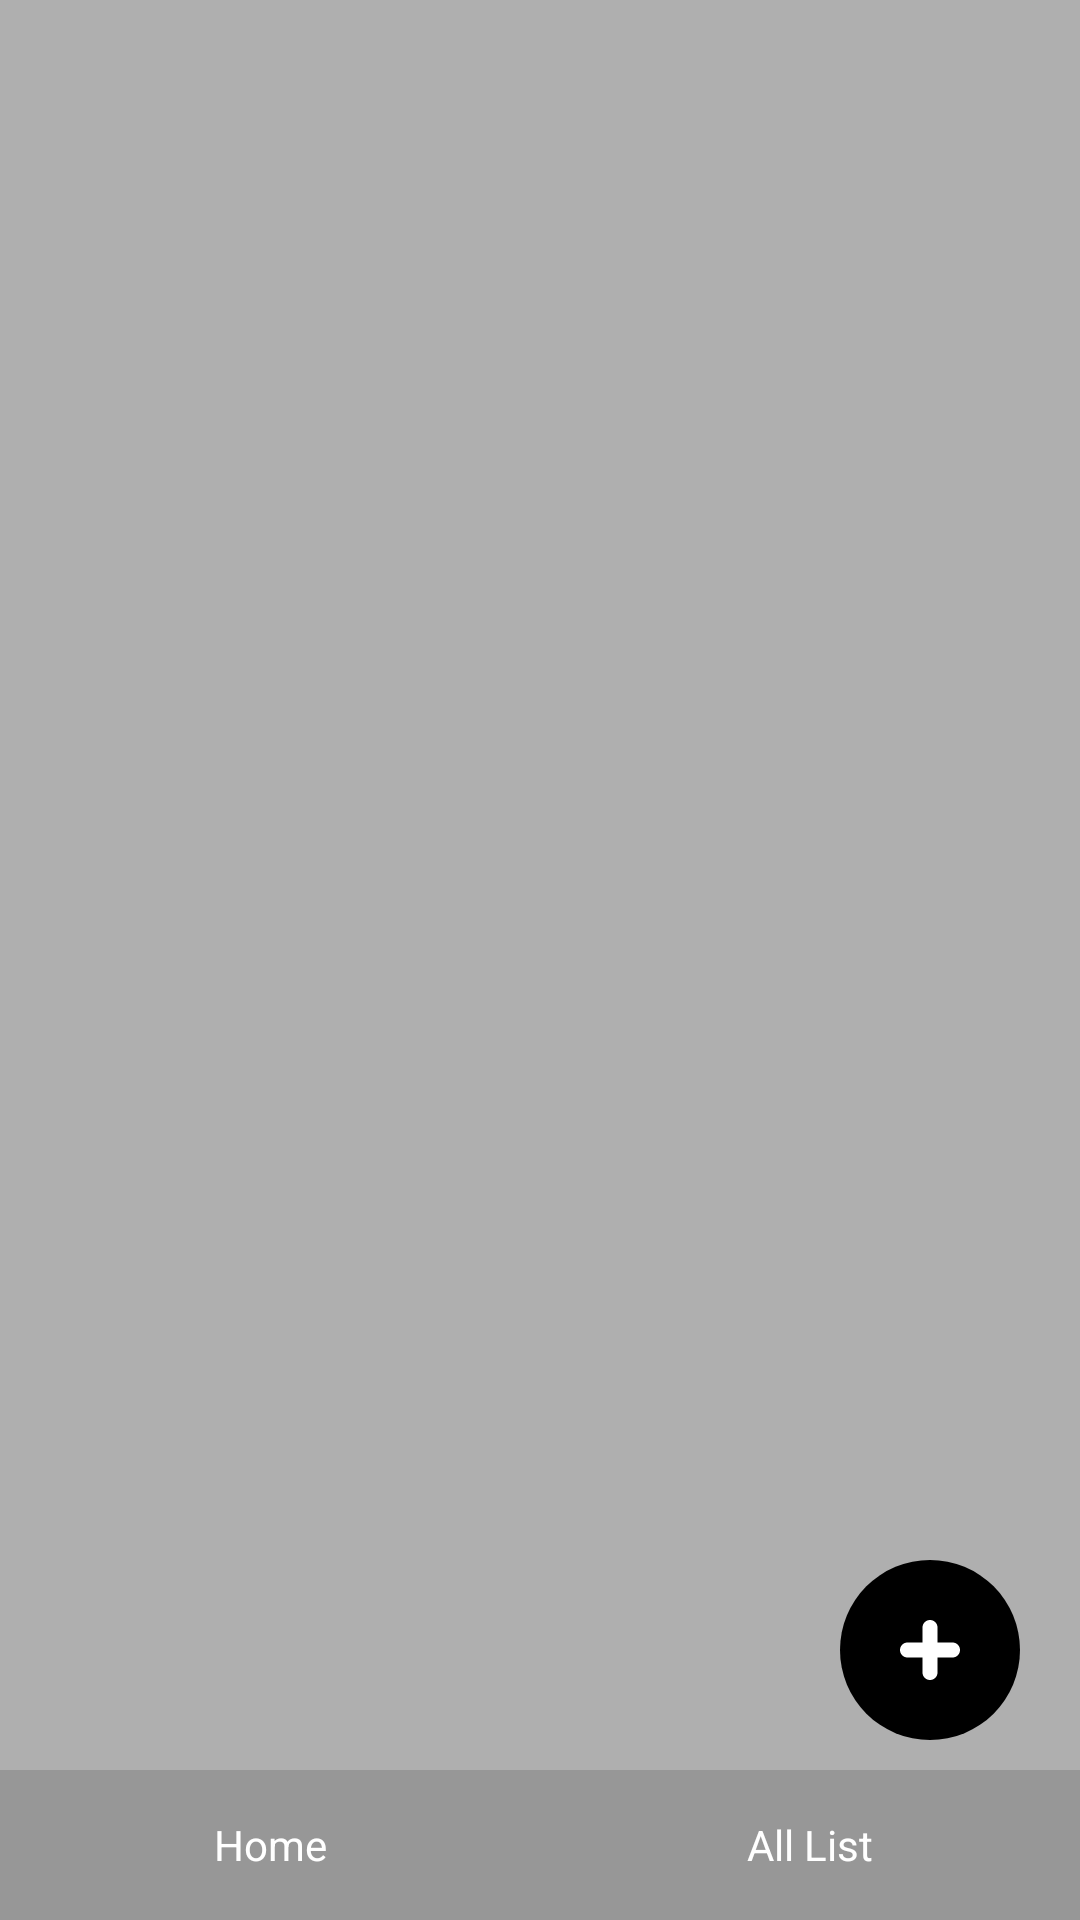

Where icons sit on this 1080x1920 app screen, as box(x1, y1, x2, y2):
plus: box(840, 1560, 1020, 1740)
